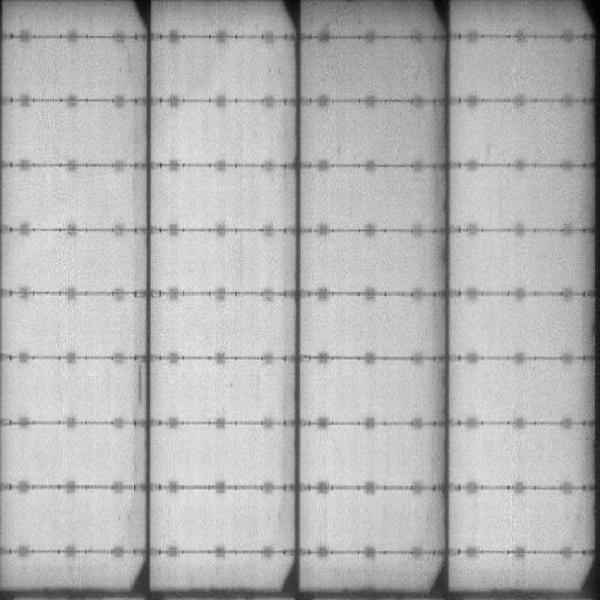scratch: (135, 363, 145, 411)
